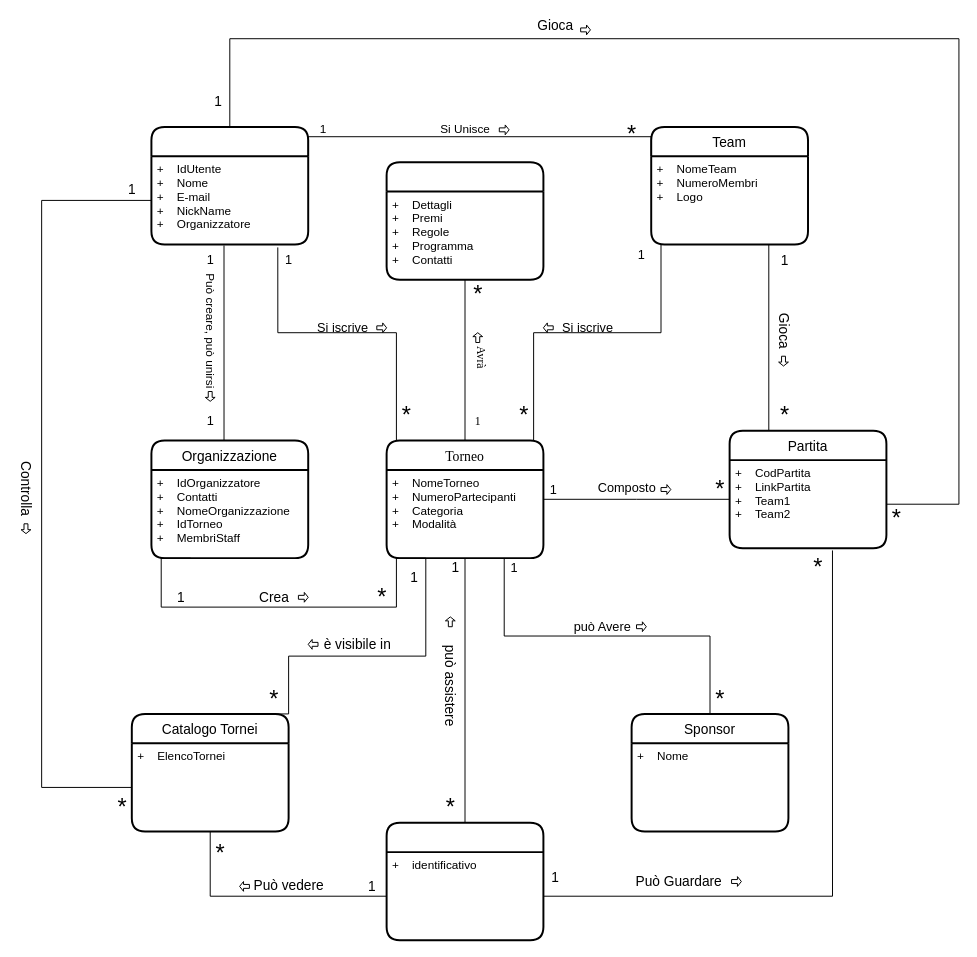
Image size: 977x957. Some labels were removed from this diagram. Here are the shapes that lost their labels. From the top down, the box of each, then its label:
(150, 125, 309, 245): Giocatore
(385, 161, 544, 280): Descrizione
(385, 821, 544, 941): Spettatore
